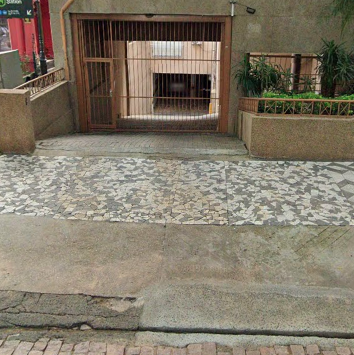vag94: (4, 276, 310, 355)
